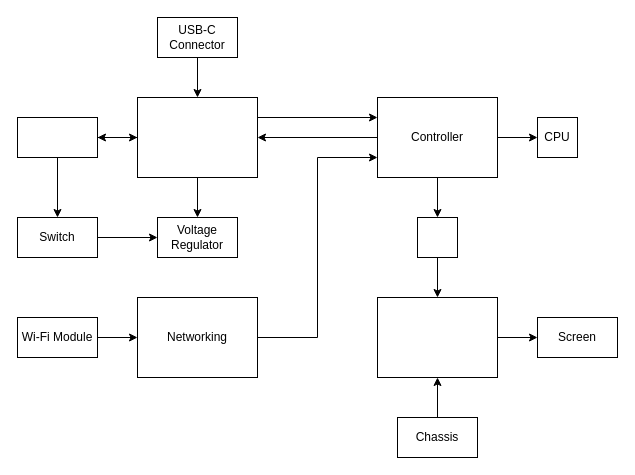
Some shapes in this 635 by 475 pixel diagram are drawn without their labels. Here are the shapes that lost their labels. From the top down, the centre of each, then its label:
At point (57, 137): "Battery".
At point (197, 137): "Power Management".
At point (437, 237): "SPI".
At point (437, 337): "Display".
